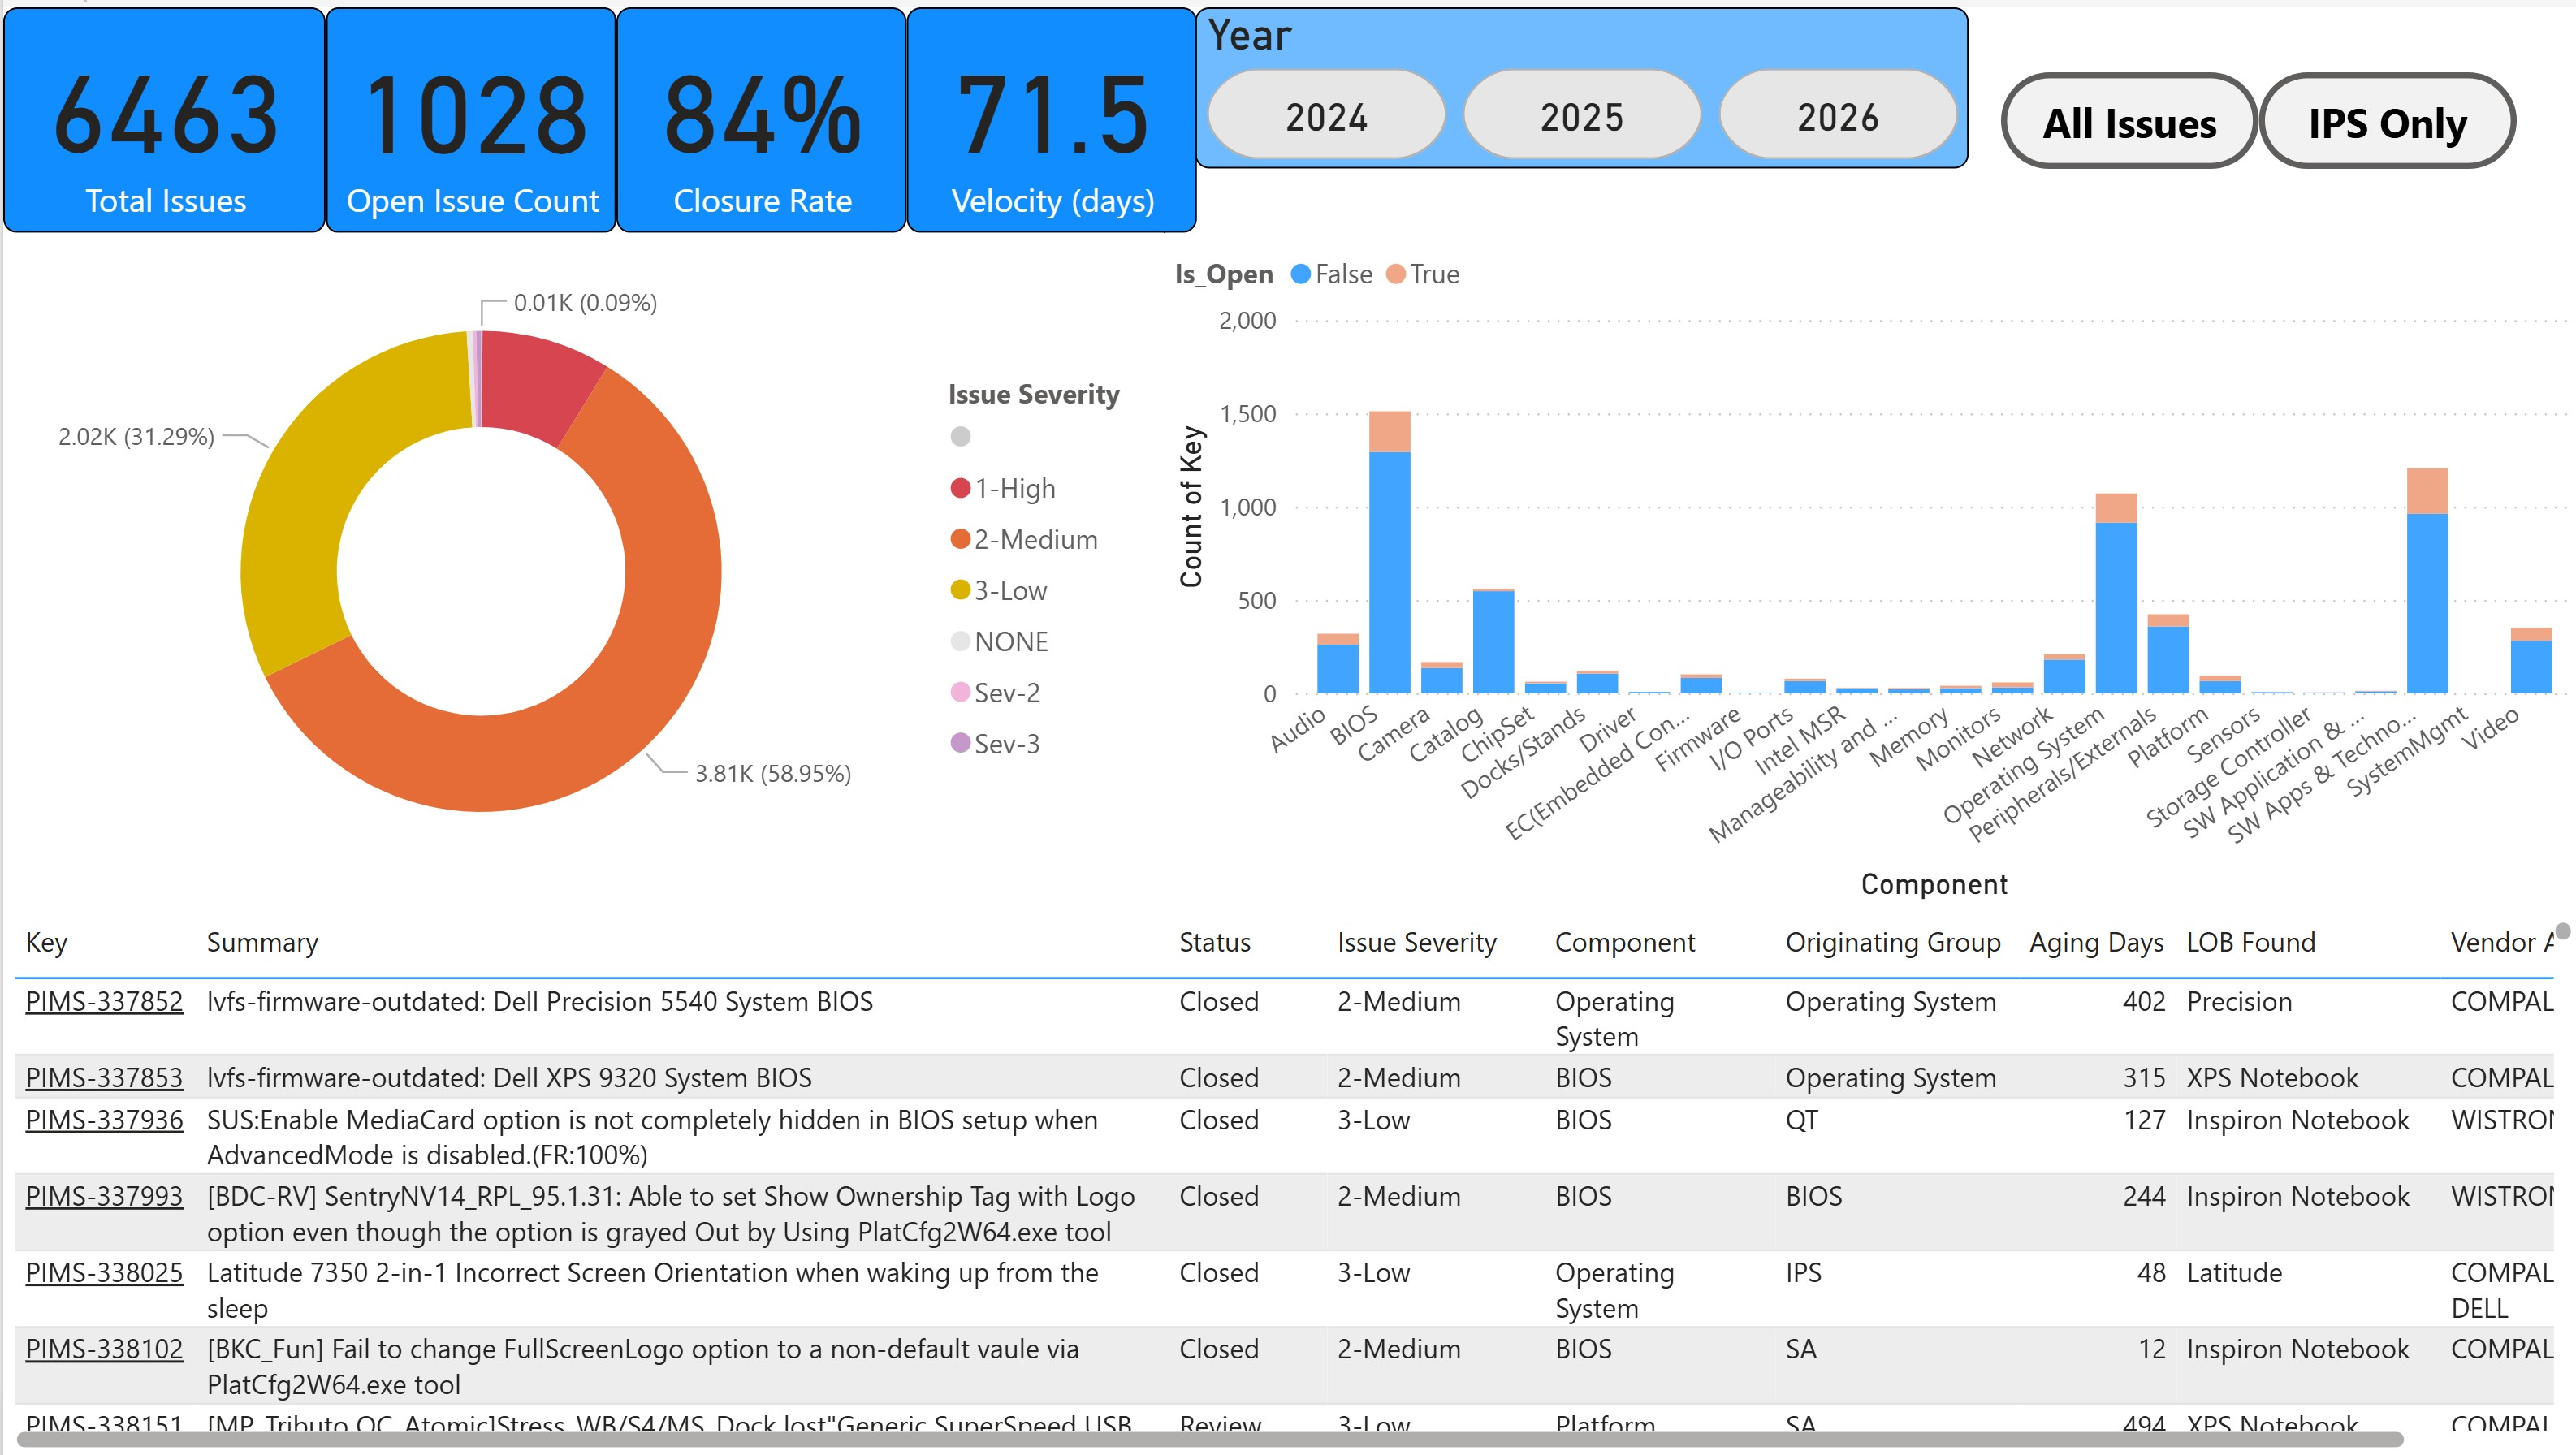

What the dashboard file says about the page in this screenshot:
{"tool":"powerbi","page":{"name":"Overview","canvas":[1280,720],"ordinal":0},"visuals":[{"type":"advancedSlicerVisual","fields":{"Values":["JIRA_Data.Created.Variation.Date Hierarchy.Year"]},"box":[592,0,384,80],"z":0},{"type":"card","fields":{"Values":["JIRA_Data.Total Issues"]},"box":[0,0,160,112],"z":1000},{"type":"card","fields":{"Values":["JIRA_Data.Open Issue Count"]},"box":[160,0,144,112],"z":2000},{"type":"card","fields":{"Values":["JIRA_Data.Closure Rate"]},"box":[304,0,144,112],"z":3000},{"type":"card","fields":{"Values":["JIRA_Data.Velocity"]},"box":[448,0,144,112],"z":4000},{"type":"columnChart","fields":{"Y":["CountNonNull(JIRA_Data.Key)"],"Category":["JIRA_Data.Component_L1"],"Series":["JIRA_Data.Is_Open"]},"box":[576,112,704,336],"z":5000},{"type":"tableEx","fields":{"Values":["JIRA_Data.Key","JIRA_Data.Summary","JIRA_Data.Status","JIRA_Data.Issue Severity","JIRA_Data.Component_L1","JIRA_Data.Originating Group","JIRA_Data.Aging Days","JIRA_Data.LOB Found","JIRA_Data.Vendor Accesses"]},"box":[0,448,1280,272],"z":6000},{"type":"donutChart","fields":{"Y":["CountNonNull(JIRA_Data.Key)"],"Category":["JIRA_Data.Issue Severity"]},"box":[0,112,576,336],"z":7000},{"type":"actionButton","box":[992,32,128,48],"z":8000},{"type":"actionButton","box":[1120,32,128,48],"z":9000}]}

Visuals, with their boxes in screenshot pixels (x1, y1, x2, y2), scaled from the page's 1280x720 canvas onto the 2576x1455 screenshot:
advancedSlicerVisual - JIRA_Data.Created.Variation.Date Hierarchy.Year: bbox=(1191, 0, 1964, 162)
card - JIRA_Data.Total Issues: bbox=(0, 0, 322, 227)
card - JIRA_Data.Open Issue Count: bbox=(322, 0, 612, 227)
card - JIRA_Data.Closure Rate: bbox=(612, 0, 901, 227)
card - JIRA_Data.Velocity: bbox=(901, 0, 1191, 227)
columnChart - CountNonNull(JIRA_Data.Key) x JIRA_Data.Component_L1: bbox=(1159, 227, 2575, 905)
tableEx - JIRA_Data.Key x JIRA_Data.Summary: bbox=(0, 905, 2575, 1454)
donutChart - CountNonNull(JIRA_Data.Key) x JIRA_Data.Issue Severity: bbox=(0, 227, 1159, 905)
actionButton: bbox=(1996, 65, 2254, 162)
actionButton: bbox=(2254, 65, 2512, 162)
